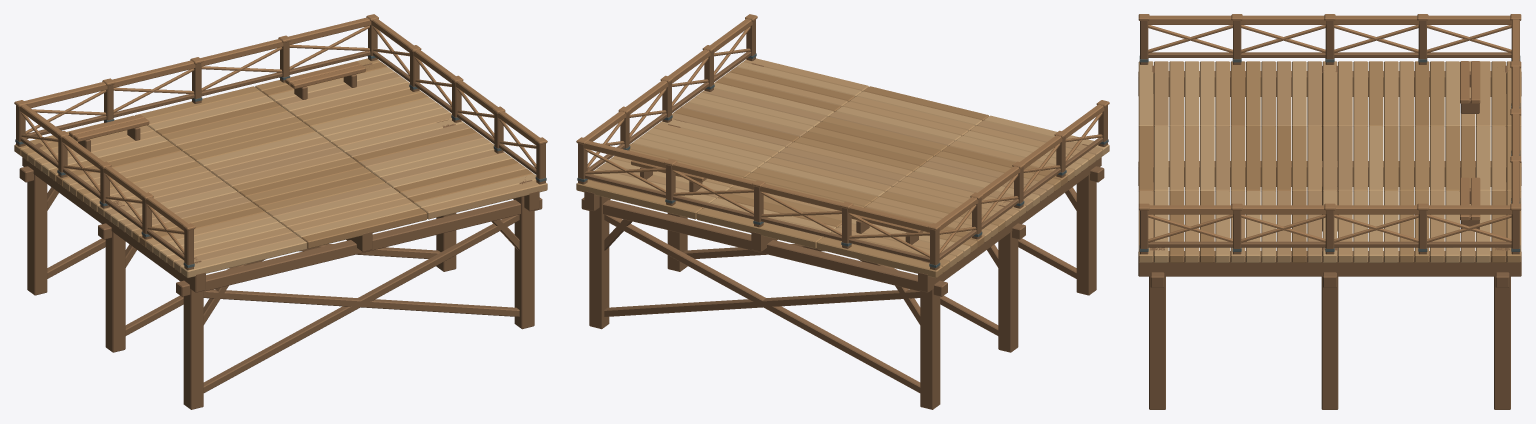
The model's file is region_lookout.glb.
3 views of the same model, side by side, from view 1: azimuth 30°, elevation 25°; view 2: azimuth 150°, elevation 25°; view 3: azimuth 270°, elevation 25° (orthographic). The views are drawn at different scales.
Visible parts, largest first — view 1: region_lookout; view 2: region_lookout; view 3: region_lookout.
Boxes of the visible parts, x1,y1,x2,y2 form: region_lookout: (14,14,547,409); region_lookout: (576,14,1109,409); region_lookout: (1138,14,1521,409).
Bounding box in the file's own units: 12 × 5.96 × 10.
